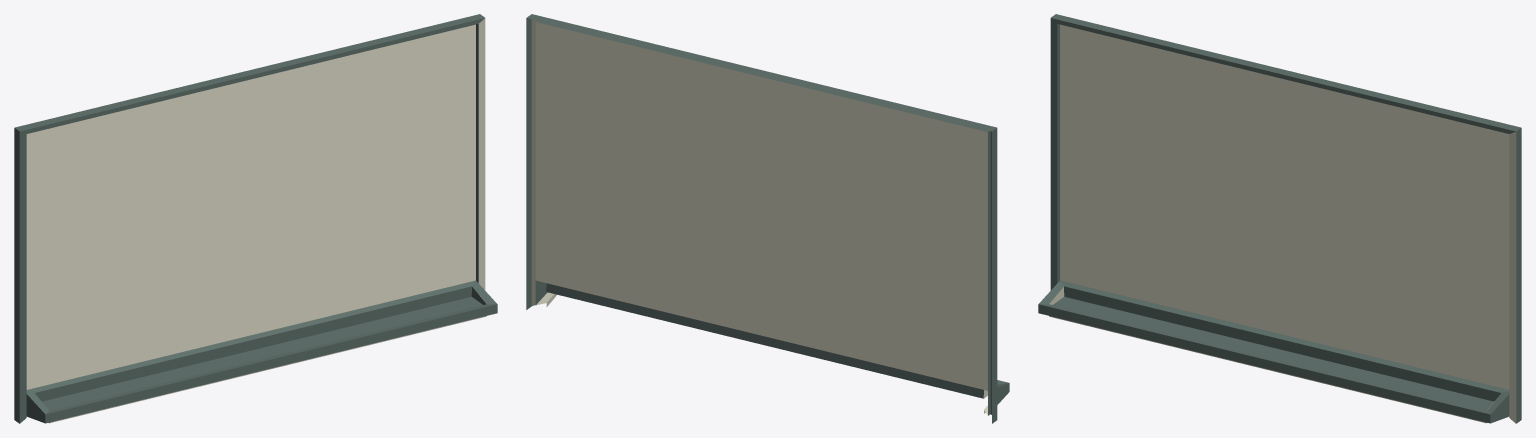
The model's file is whiteboard.fbx.
The picture shows the model from 3 angles, left to right: view 1: azimuth 30°, elevation 25°; view 2: azimuth 150°, elevation 25°; view 3: azimuth 330°, elevation 25°; orthographic projection.
Parts seen in each view (by area): view 1: pCube16; view 2: pCube16; view 3: pCube16.
Part boxes in pixels (x1,y1,x2,y2): pCube16: (14,14,497,423); pCube16: (526,14,1009,423); pCube16: (1038,14,1521,423).
Size of the model in its own units: 2.5 by 1.5 by 0.2259.
Materials: 1 (1 with a texture image).
